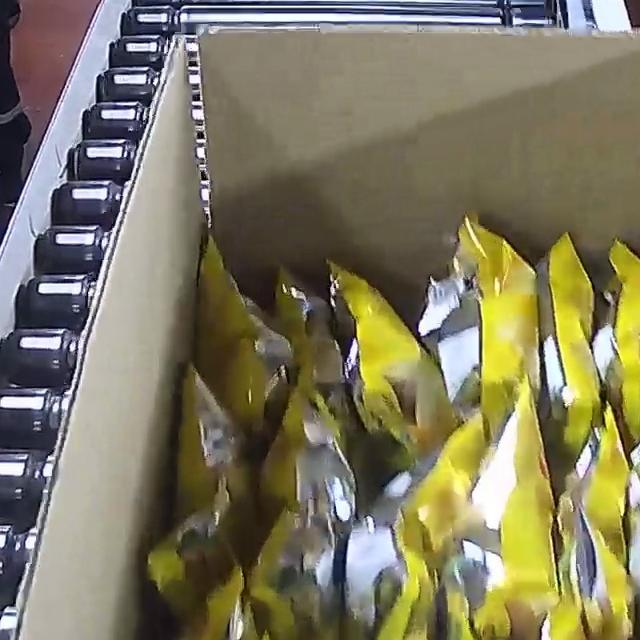salted: (114, 208, 640, 640)
